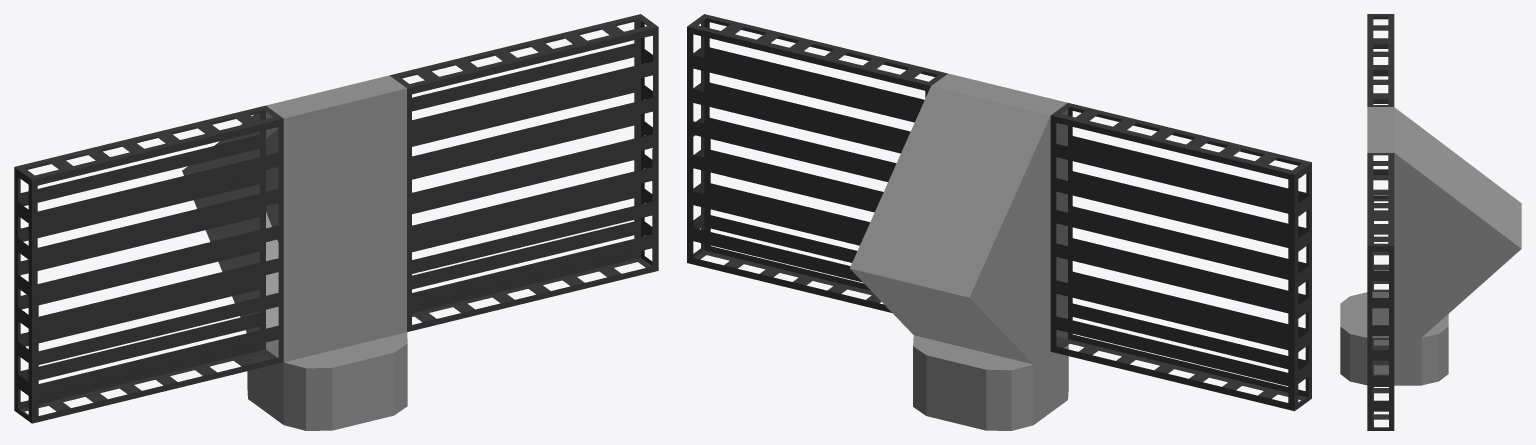
The model's file is Radome_top.fbx.
3 views of the same model, side by side, from view 1: azimuth 30°, elevation 25°; view 2: azimuth 150°, elevation 25°; view 3: azimuth 270°, elevation 25° (orthographic). The views are drawn at different scales.
Visible parts, largest first — view 1: Radome; view 2: Radome; view 3: Radome.
Boxes of the visible parts, bbox=[...] form: Radome: bbox=[14, 14, 658, 430]; Radome: bbox=[687, 14, 1311, 430]; Radome: bbox=[1340, 14, 1521, 430].
Bounding box in the file's own units: 2500 × 1169 × 826.
1 material, 1 textured.
